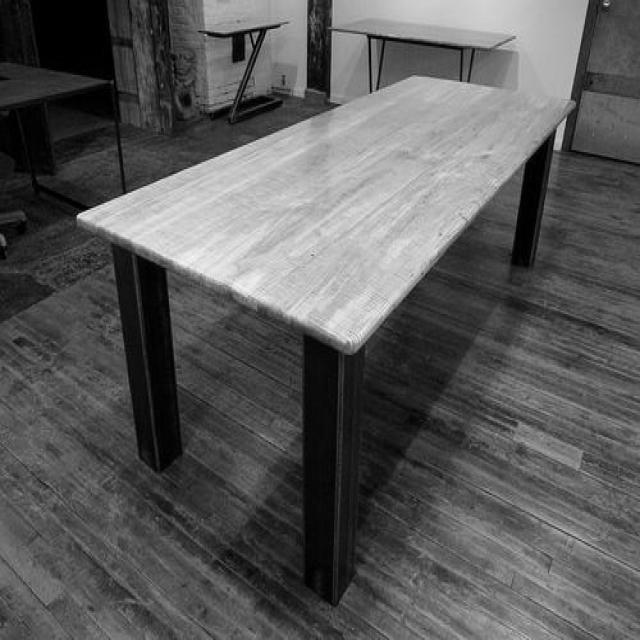table: (79, 79, 577, 600), (330, 15, 520, 94), (194, 5, 288, 129)
